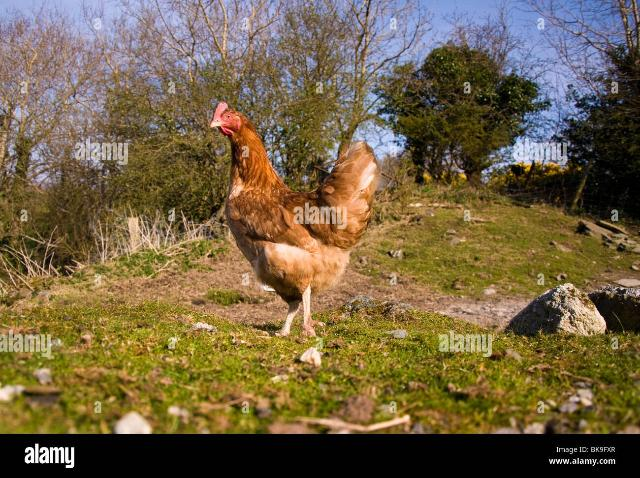Chicken: (211, 102, 380, 337)
